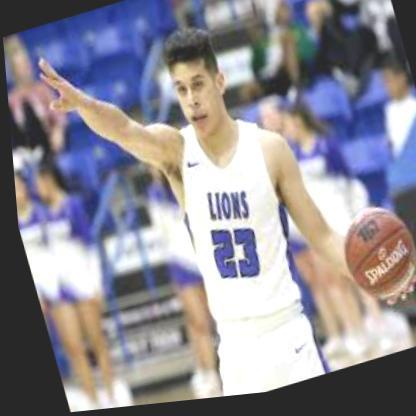basketball: (329, 203, 416, 317)
